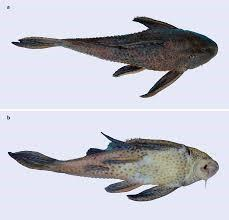Janitor Fish: (6, 17, 218, 98), (2, 131, 223, 202)
